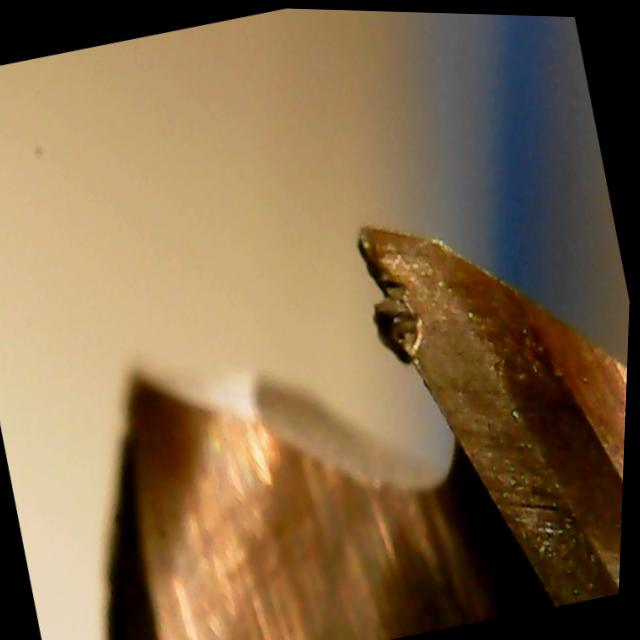Tool-wear-class-1: (317, 177, 587, 540)
